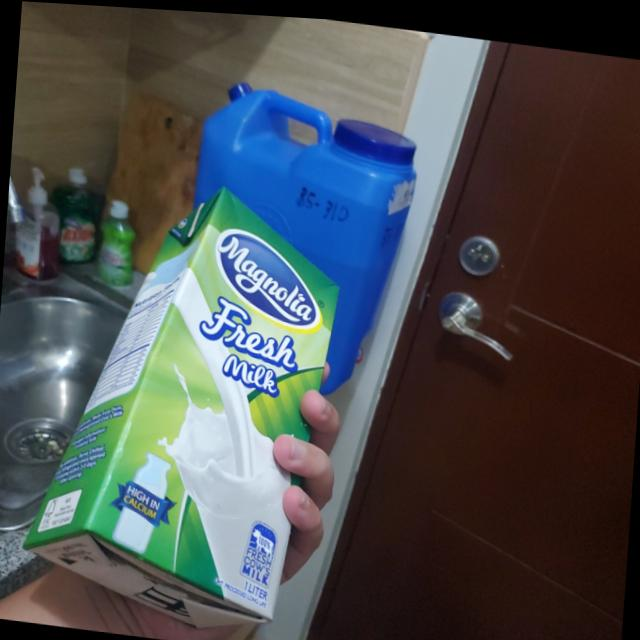milk: (26, 165, 350, 629)
